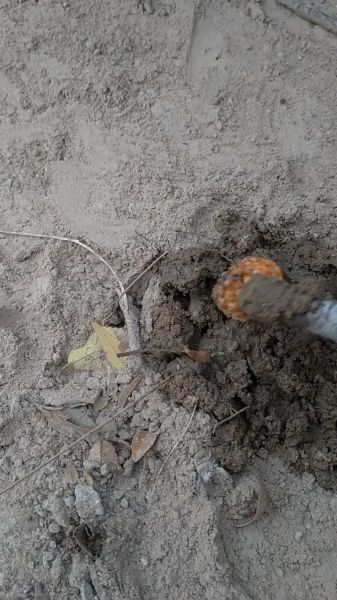eggs: (210, 254, 290, 328)
